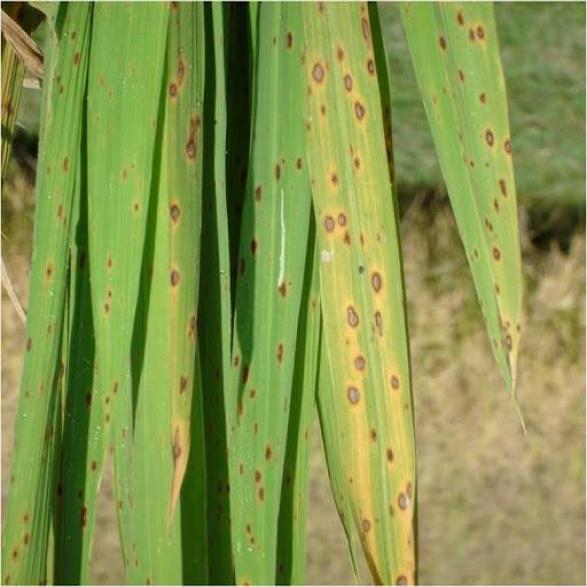Brown_Spot: (235, 456, 276, 507), (493, 302, 525, 359), (352, 14, 379, 77), (454, 0, 487, 49), (304, 47, 331, 88), (166, 53, 191, 96), (162, 256, 186, 300), (266, 326, 290, 370), (116, 163, 140, 206), (168, 367, 192, 410), (184, 307, 208, 350), (160, 187, 184, 230), (181, 113, 205, 156), (0, 537, 24, 580), (45, 64, 69, 107), (53, 138, 77, 181), (257, 428, 281, 471), (234, 375, 258, 418), (270, 265, 294, 308), (233, 235, 257, 278), (244, 171, 268, 214), (262, 145, 286, 188), (270, 13, 294, 56), (164, 416, 188, 458), (12, 504, 36, 546), (32, 246, 56, 288), (286, 140, 310, 182), (389, 477, 416, 514), (11, 329, 34, 372), (350, 506, 380, 538), (69, 498, 94, 534), (236, 519, 263, 552), (95, 276, 116, 317), (344, 91, 371, 121), (99, 379, 120, 417), (62, 27, 81, 64), (46, 198, 71, 226), (98, 245, 120, 276), (359, 417, 383, 445), (488, 170, 512, 198), (345, 142, 366, 172), (384, 369, 405, 399), (346, 347, 367, 377), (337, 70, 365, 92), (476, 120, 498, 148), (369, 307, 390, 336), (344, 297, 365, 326), (368, 268, 389, 297), (323, 201, 344, 230), (430, 22, 449, 54), (380, 443, 400, 473), (342, 382, 362, 411), (469, 88, 492, 109), (386, 568, 411, 586), (452, 60, 469, 84), (85, 450, 100, 473), (324, 167, 343, 184), (372, 227, 388, 247), (313, 0, 328, 15), (492, 238, 500, 265), (336, 36, 344, 63), (469, 243, 481, 259), (356, 227, 364, 250), (468, 154, 476, 172)
